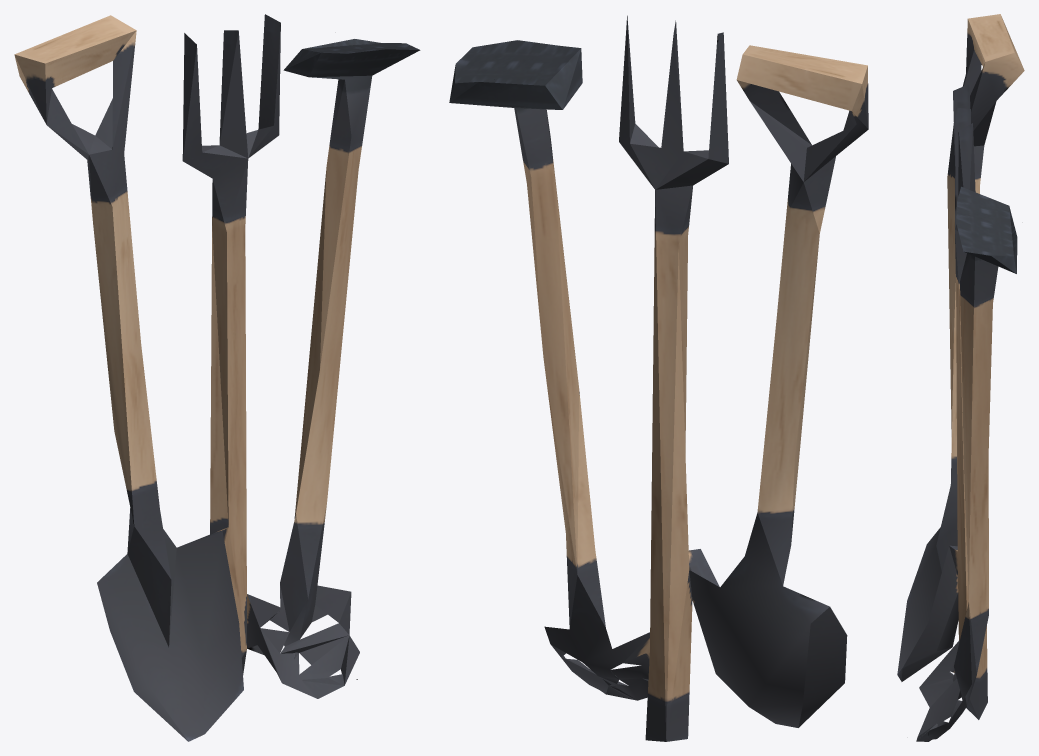
The model's file is tools_lod0.glb.
3 views of the same model, side by side, from view 1: azimuth 30°, elevation 25°; view 2: azimuth 150°, elevation 25°; view 3: azimuth 270°, elevation 25° (orthographic). The views are drawn at different scales.
Parts seen in each view (by area): view 1: low; view 2: low; view 3: low.
Boxes of the visible parts, bbox=[...] form: low: bbox=[14, 14, 420, 741]; low: bbox=[449, 15, 868, 741]; low: bbox=[897, 14, 1024, 741].
Size of the model in its own units: 1.19 by 2.02 by 0.3767.
1 material, 1 textured.
